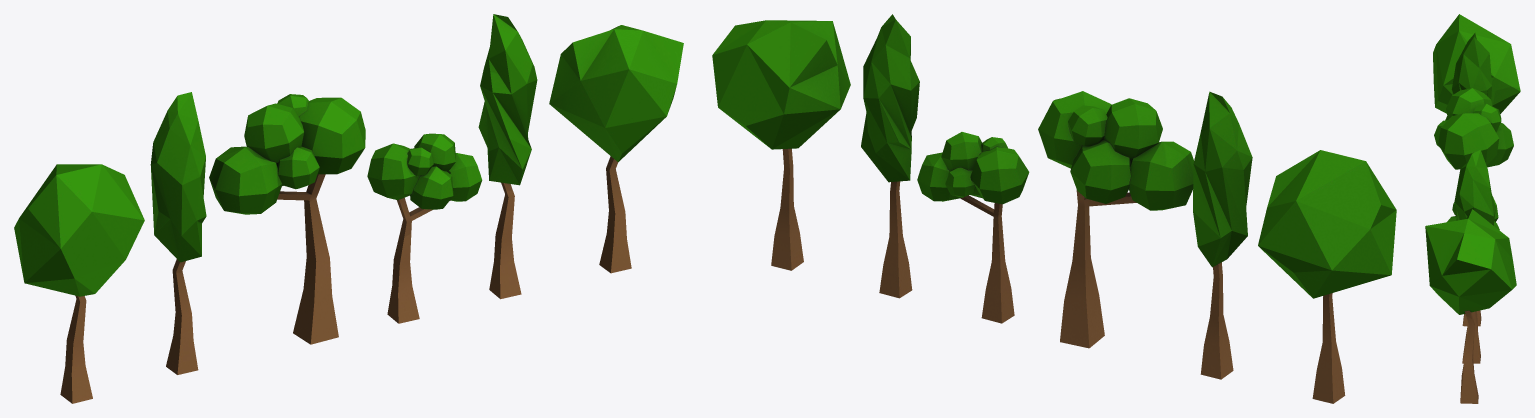
File: low_poly_trees.glb
3 renders of one model, left to right at view 1: azimuth 30°, elevation 25°; view 2: azimuth 150°, elevation 25°; view 3: azimuth 270°, elevation 25°, orthographic. The views are drawn at different scales.
Visible parts, largest first — view 1: Object001_Object001_mtl_0; view 2: Object001_Object001_mtl_0; view 3: Object001_Object001_mtl_0.
Part boxes in pixels (box(x1,y1,x2,y2)): Object001_Object001_mtl_0: box(14, 14, 683, 403); Object001_Object001_mtl_0: box(712, 14, 1396, 403); Object001_Object001_mtl_0: box(1425, 14, 1520, 403).
Bounding box in the file's own units: 330 × 133 × 55.16.
Materials: 1 (1 with a texture image).
